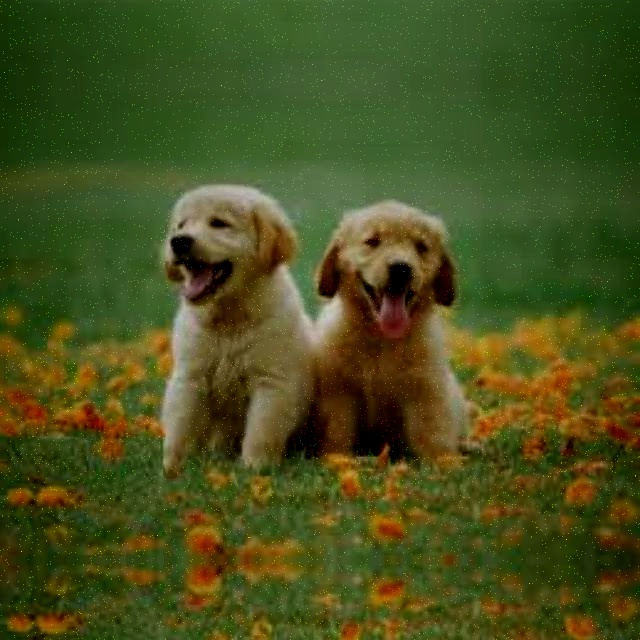dog: (140, 182, 306, 482), (310, 195, 473, 465), (140, 637, 306, 640)
